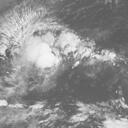cyclone: (32, 35, 96, 102)
